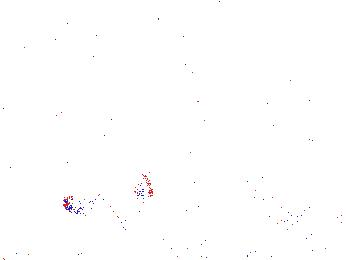flame jellyfish: (63, 160, 151, 226), (273, 172, 346, 230), (242, 158, 293, 206)
